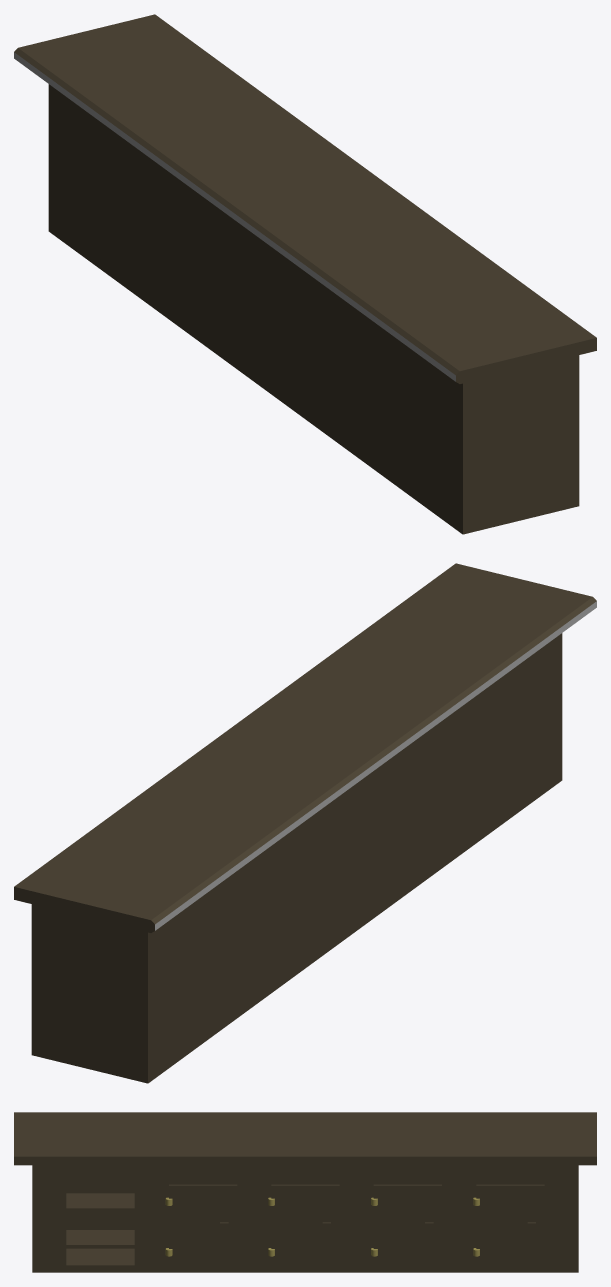
File: BAR.fbx
3 views of the same model, one above another, from view 1: azimuth 30°, elevation 25°; view 2: azimuth 150°, elevation 25°; view 3: azimuth 270°, elevation 25° (orthographic). The views are drawn at different scales.
Visible parts, largest first — view 1: Cube, Cube.001; view 2: Cube, Cube.001; view 3: Cube, Cube.001.
Boxes of the visible parts, bbox=[...] form: Cube: bbox=[48, 84, 579, 534]; Cube.001: bbox=[14, 14, 596, 383]; Cube: bbox=[31, 633, 562, 1083]; Cube.001: bbox=[14, 563, 596, 932]; Cube: bbox=[32, 1165, 578, 1272]; Cube.001: bbox=[14, 1112, 596, 1165].
Size of the model in its own units: 186 by 218 by 982.
